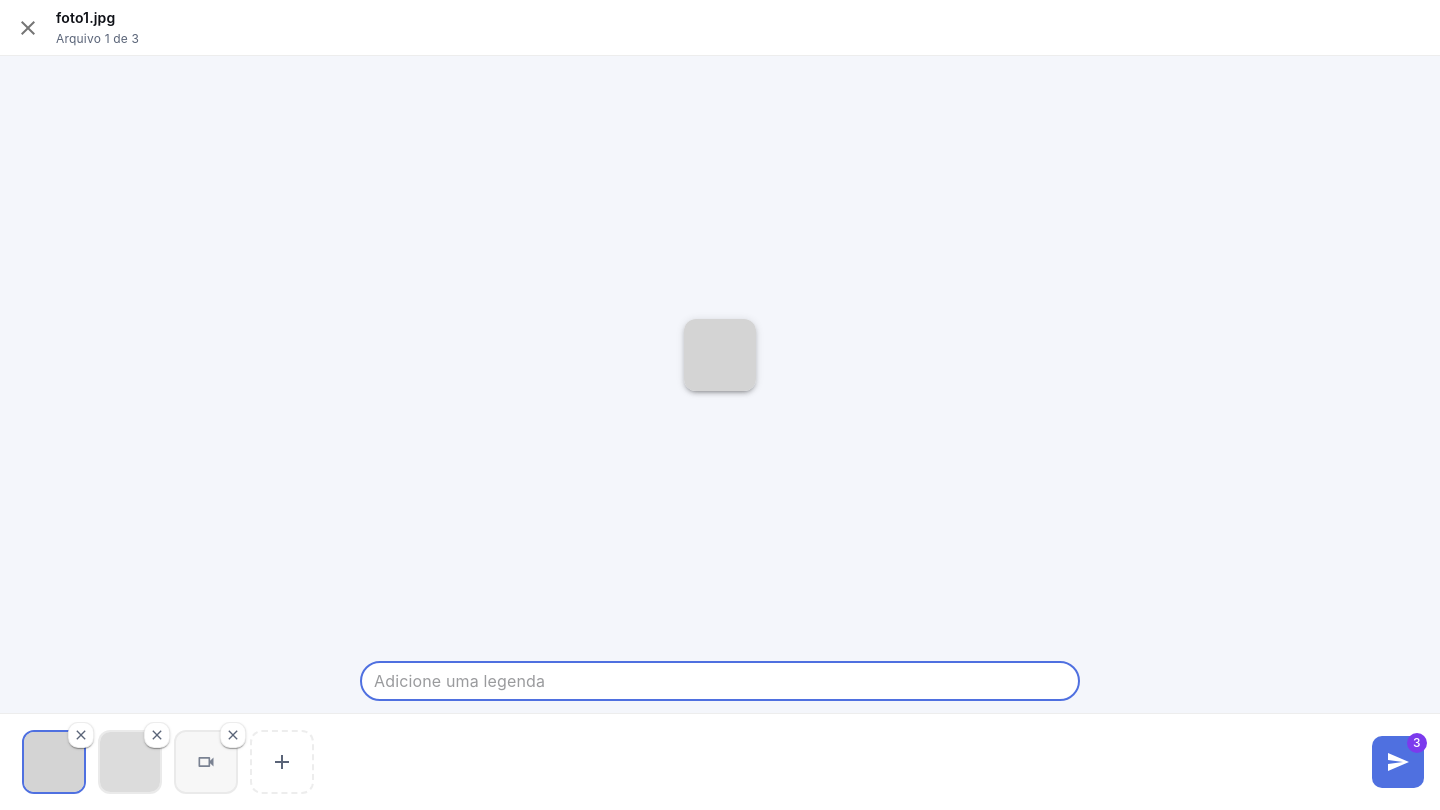
Scenario: AttachmentPreviewPanel — item atual e miniaturas › mostra só o item atual em tamanho cheio e usa vídeo apenas quando ele é o atual
The image size is (1440, 810).
Expected: the field labelled "clipe.mp4" is not shown
Click the button named "clipe.mp4". click: {"x": 206, "y": 762}
box: [174,730,238,794]
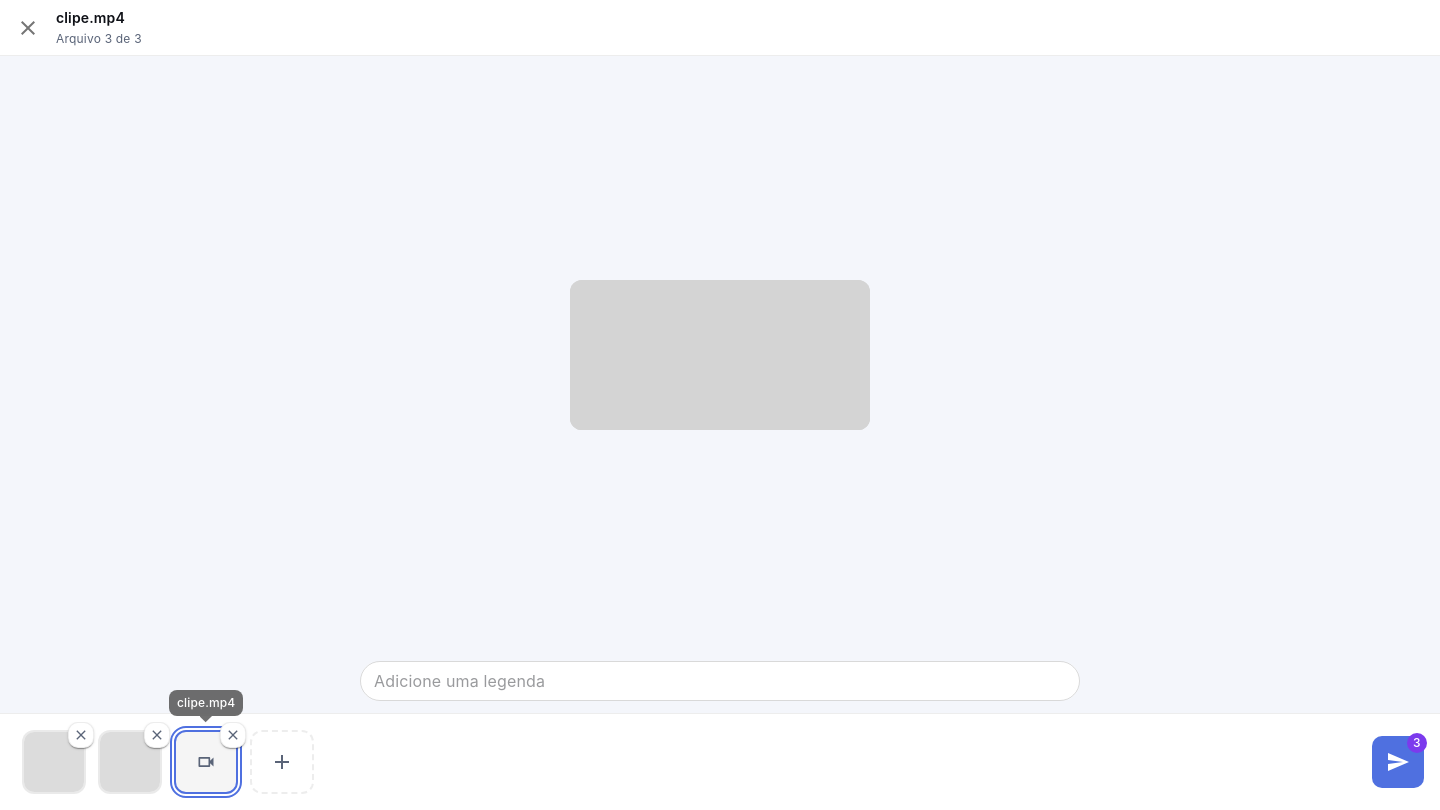
Result: the text "foto1.jpg" is gone
